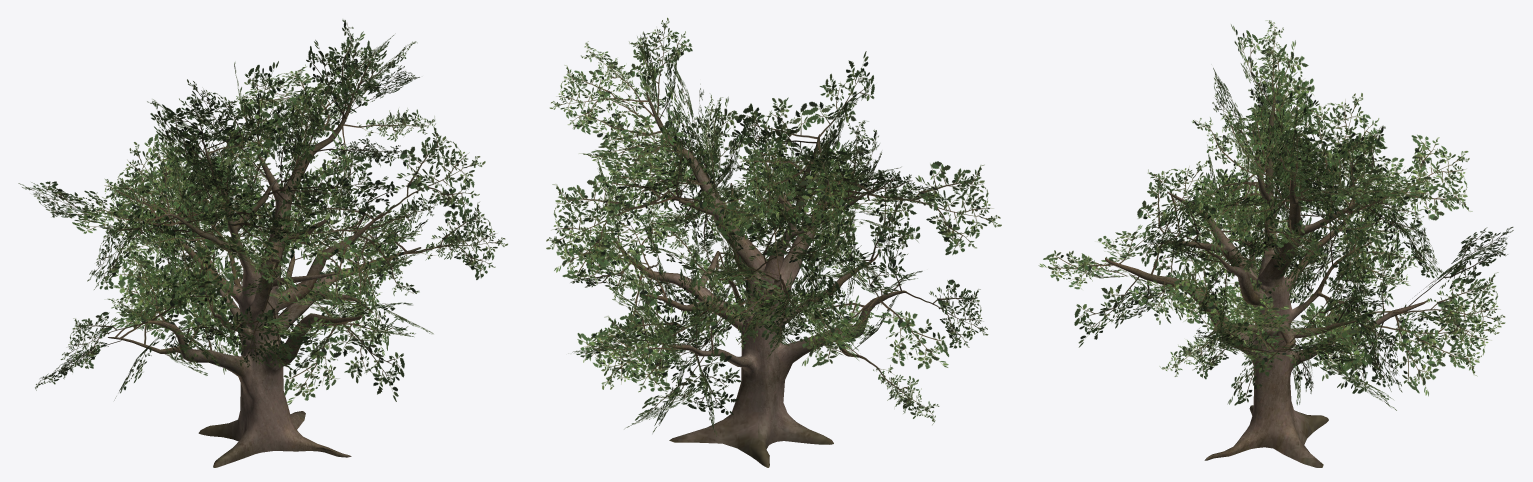
The model's file is oak_flat.glb.
The picture shows the model from 3 angles, left to right: view 1: azimuth 30°, elevation 25°; view 2: azimuth 150°, elevation 25°; view 3: azimuth 270°, elevation 25°; orthographic projection. The views are drawn at different scales.
Visible parts, largest first — view 1: oaktree_w; view 2: oaktree_w; view 3: oaktree_w.
Part boxes in pixels (left/top/right/bottom): oaktree_w: left=18, top=19, right=507, bottom=467; oaktree_w: left=546, top=17, right=1001, bottom=467; oaktree_w: left=1038, top=20, right=1513, bottom=467.
Bounding box in the file's own units: 12.38 × 11 × 12.61.
Materials: 2 (2 with a texture image).
